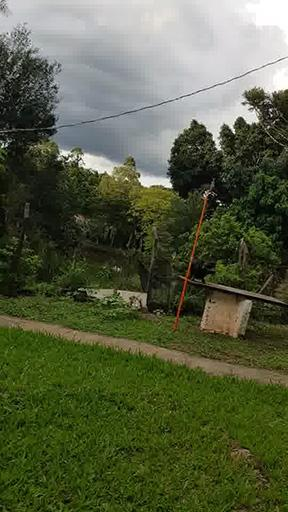Vara_Manobra: (174, 197, 209, 329)
